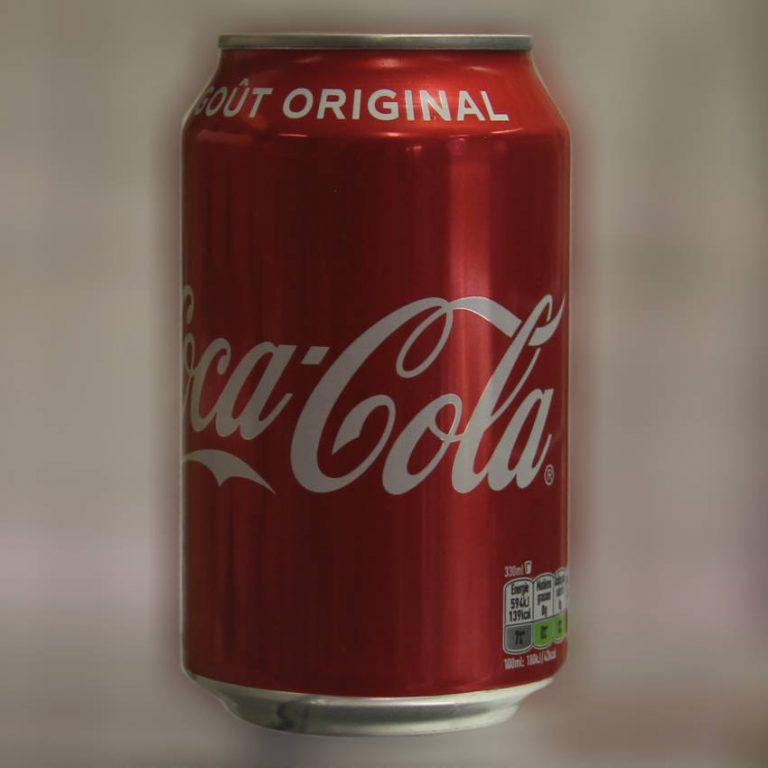metal: (183, 34, 569, 737)
